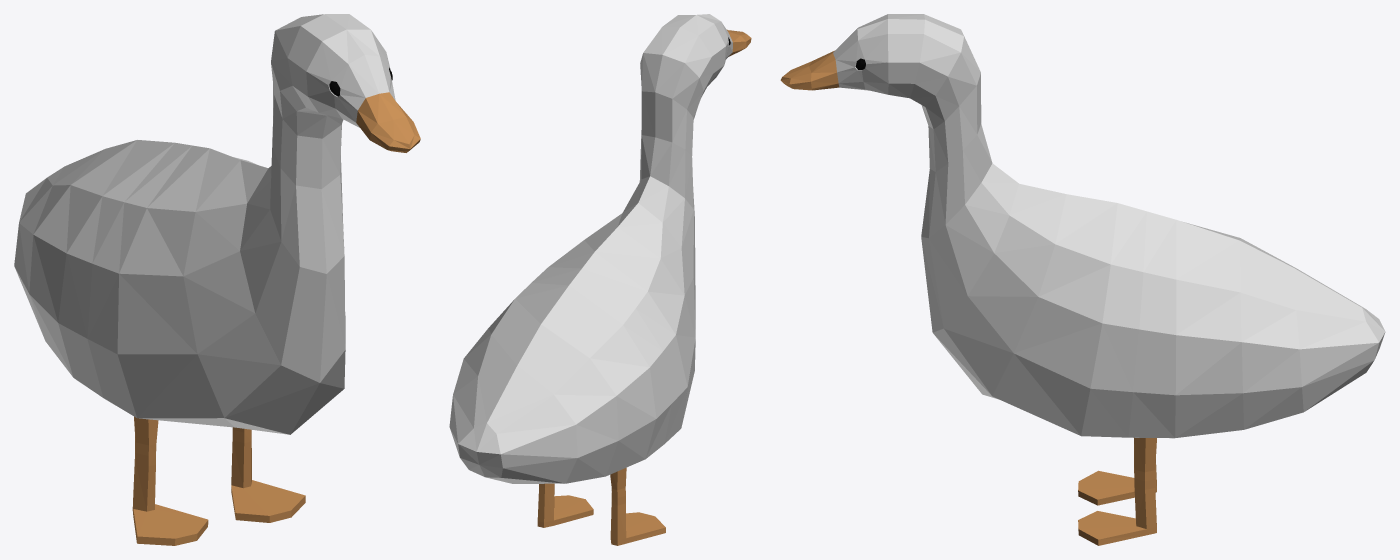
File: Duck.fbx
3 views of the same model, side by side, from view 1: azimuth 30°, elevation 25°; view 2: azimuth 150°, elevation 25°; view 3: azimuth 270°, elevation 25° (orthographic). The views are drawn at different scales.
Visible parts, largest first — view 1: TriangulatedDuck; view 2: TriangulatedDuck; view 3: TriangulatedDuck.
Part boxes in pixels (x1=…): TriangulatedDuck: x1=14, y1=14, x2=420, y2=545; TriangulatedDuck: x1=449, y1=14, x2=751, y2=545; TriangulatedDuck: x1=780, y1=14, x2=1385, y2=545.
Size of the model in its own units: 22.72 by 54.14 by 60.3.
